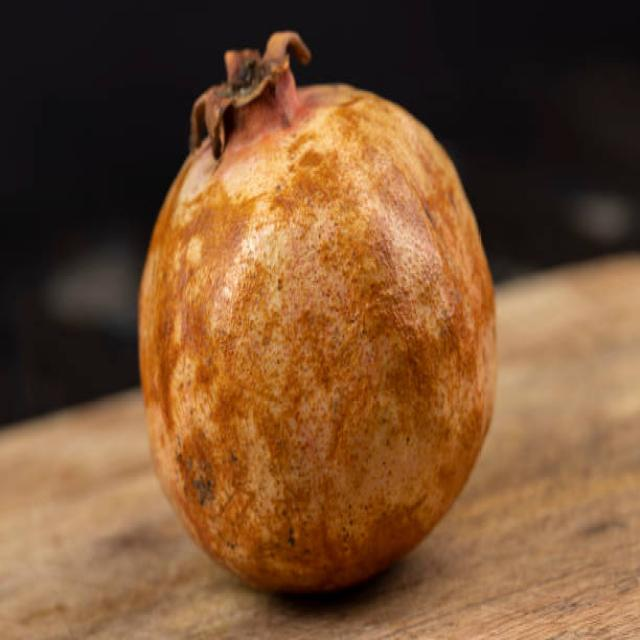overripe: (127, 30, 502, 596)
